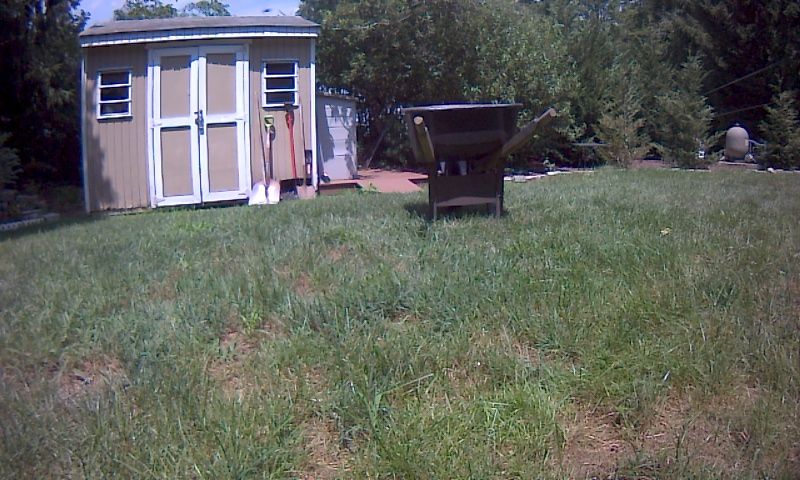shovel: (291, 96, 326, 219), (251, 111, 285, 223)
wheelbarrow: (386, 86, 574, 247)
